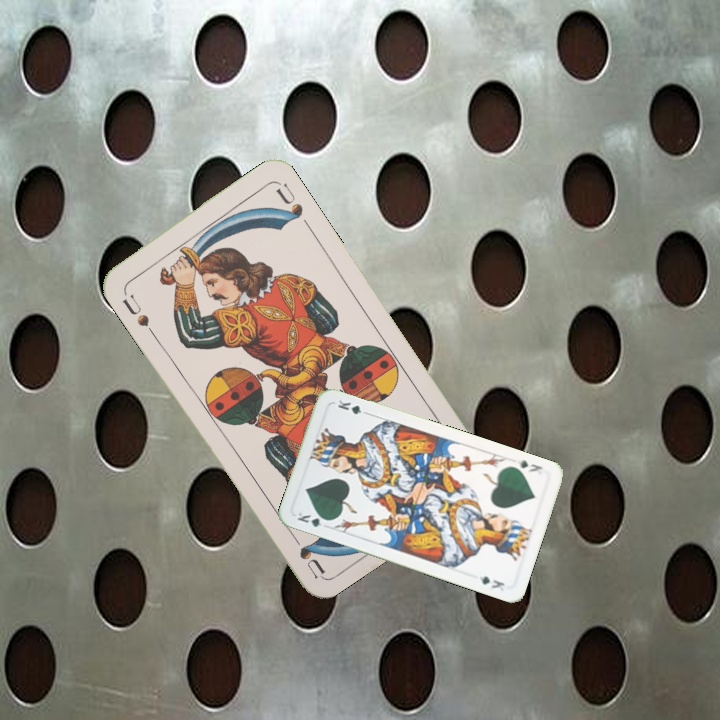GK: (293, 508, 333, 530), (512, 455, 545, 475)
SU: (118, 290, 152, 330)
